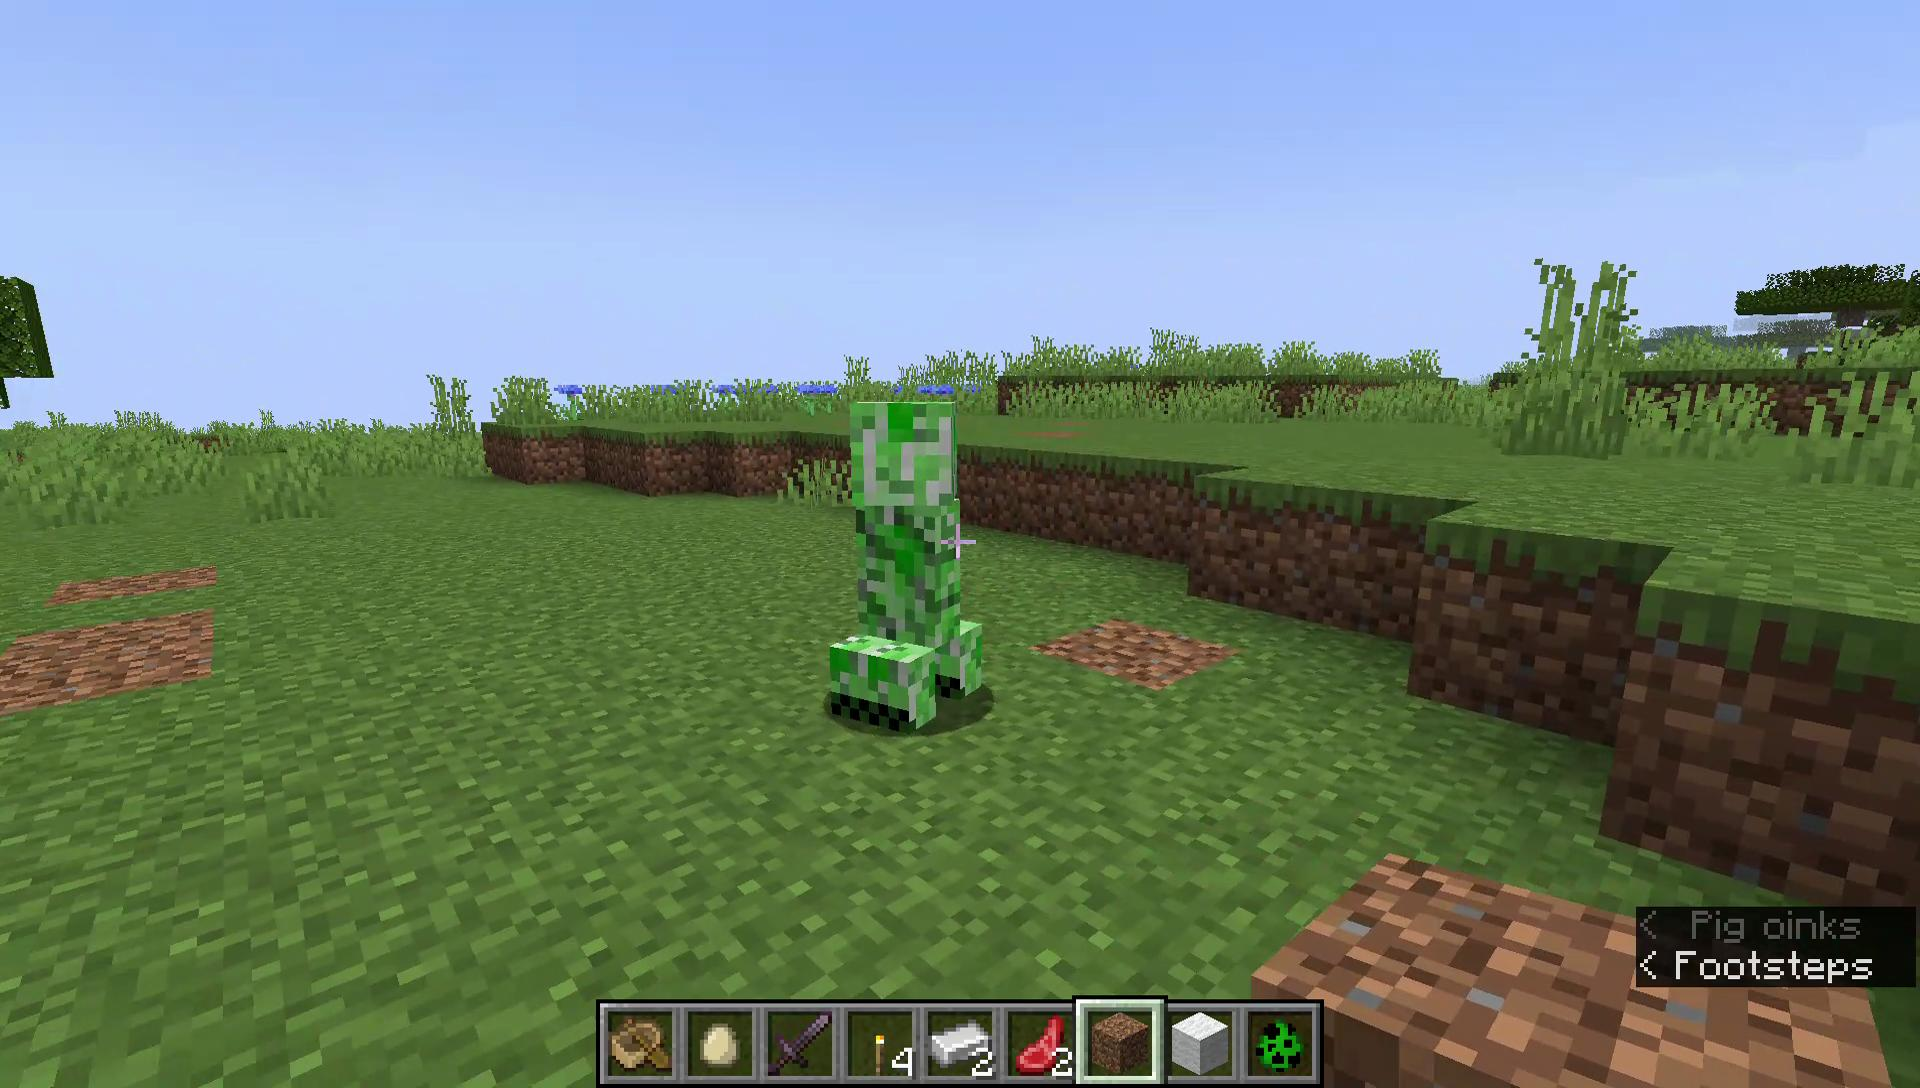creeper: (822, 394, 986, 735)
